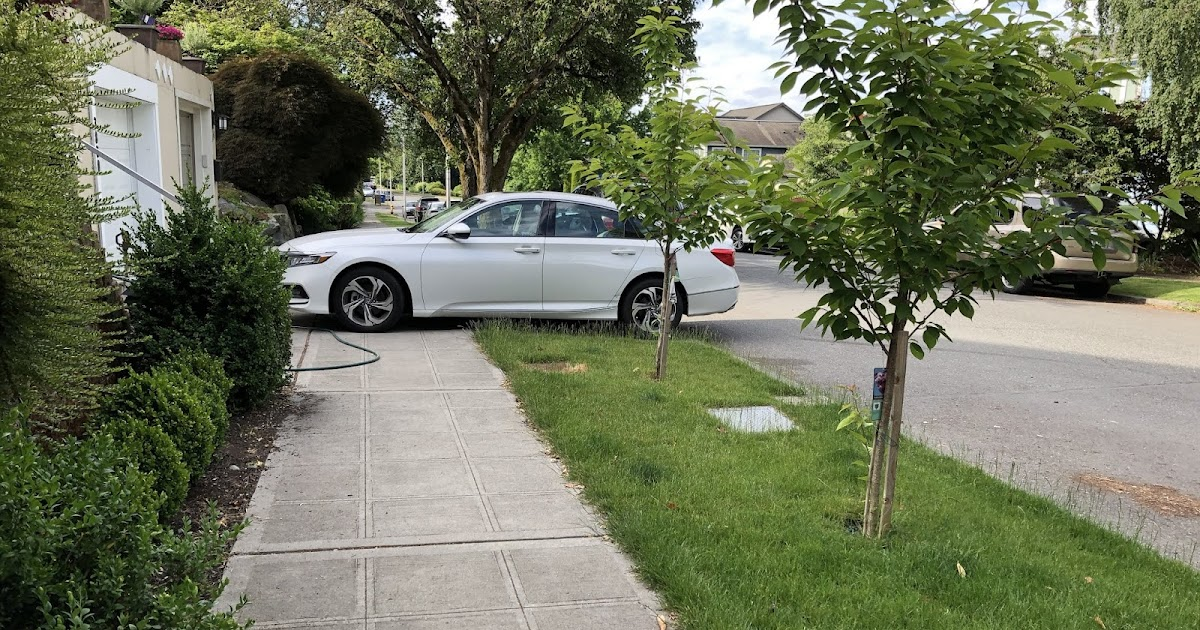Car: (250, 188, 754, 340)
Tree: (764, 4, 1129, 549), (346, 7, 654, 187)
